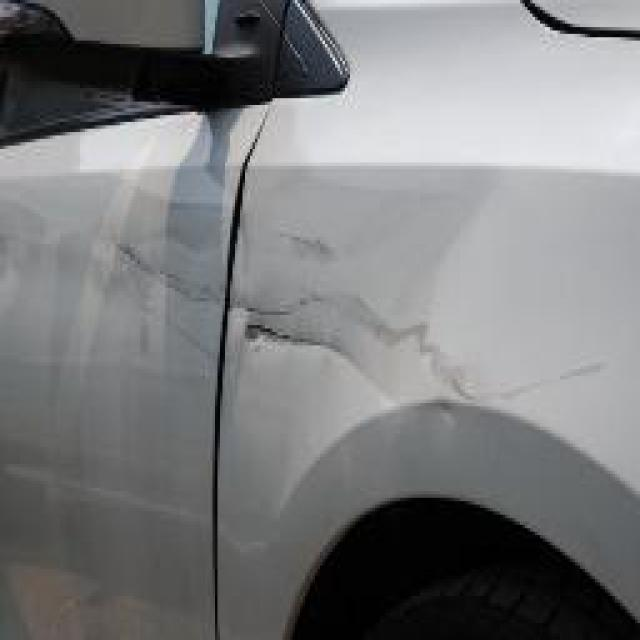Door: (61, 203, 234, 368)
Fender: (217, 189, 623, 450)
